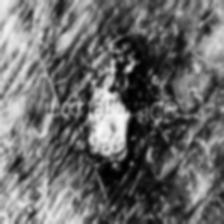Potentially Malignant Skin Tumors: (83, 85, 136, 168)
